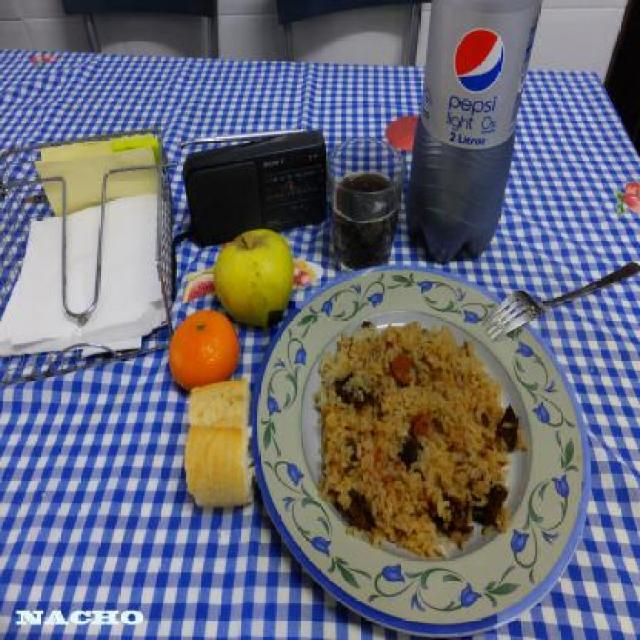Orange: (170, 308, 242, 387)
